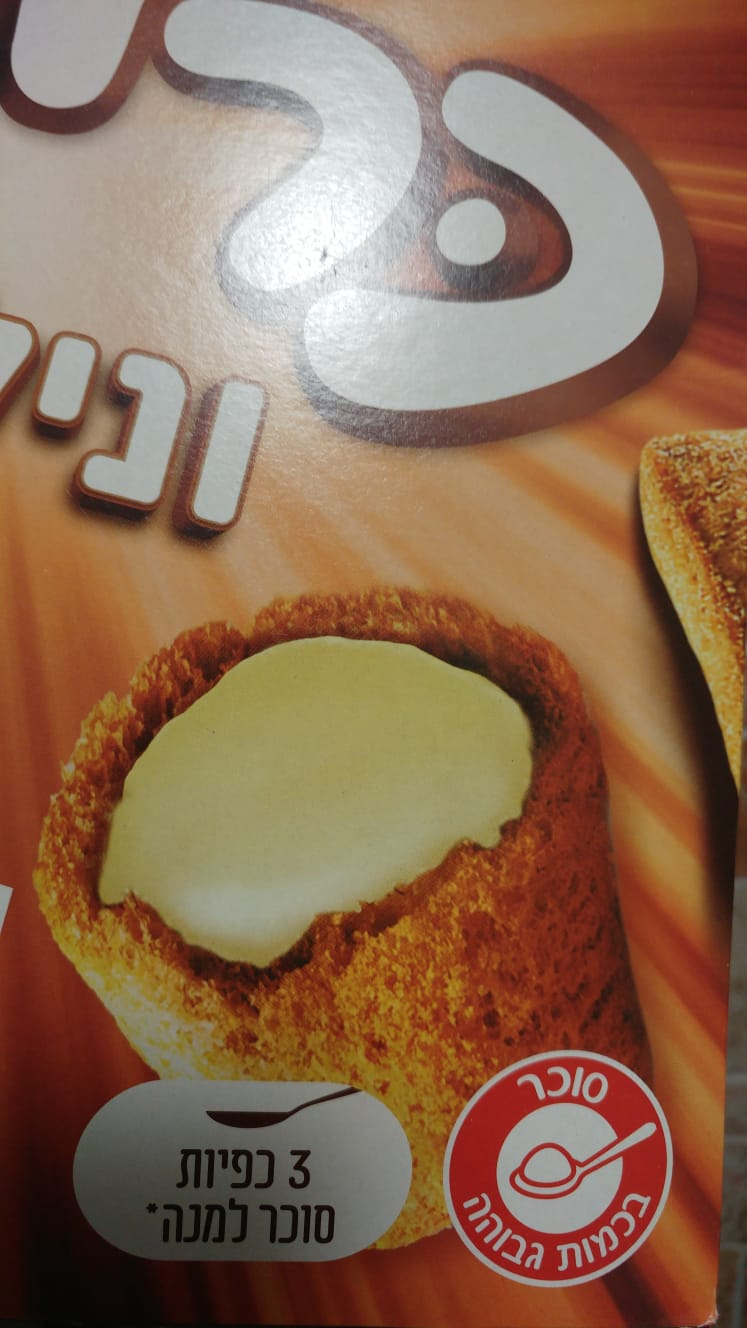sugar: (446, 1051, 674, 1289)
